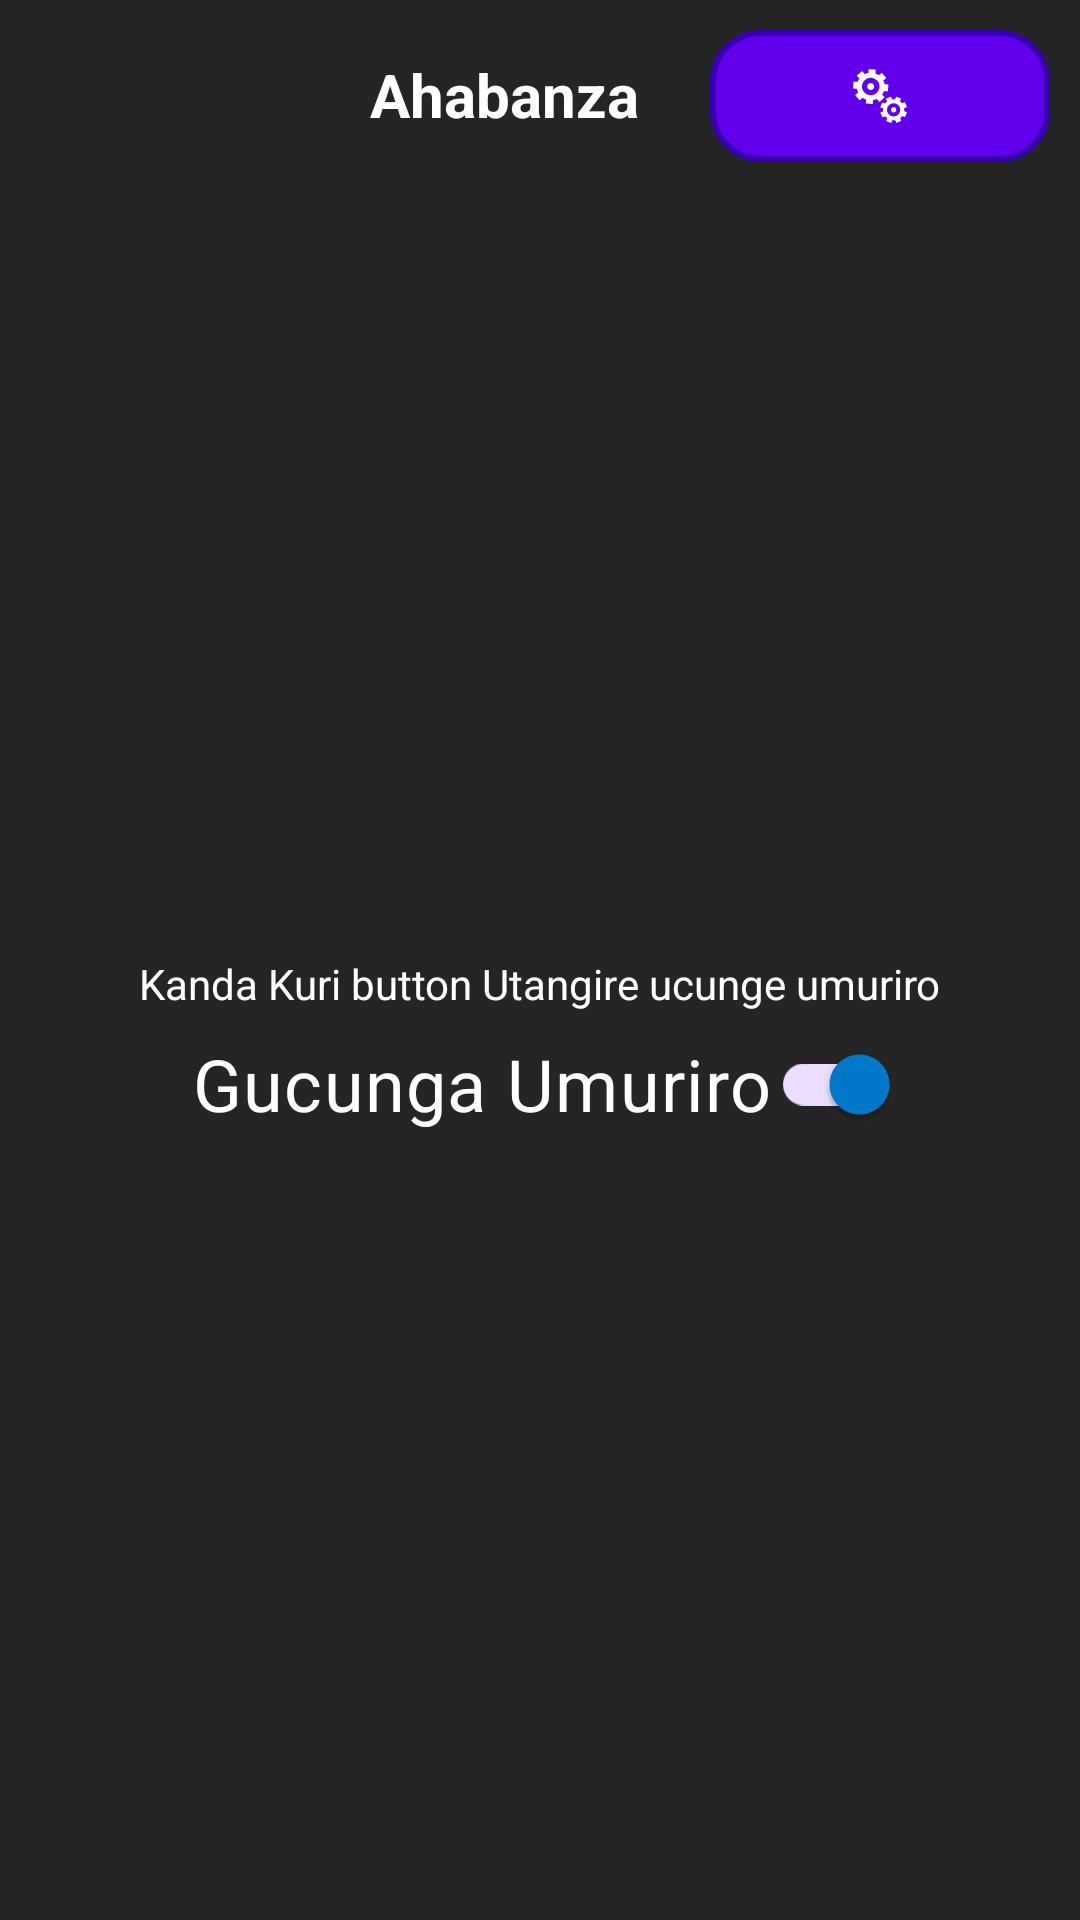

Named icons in this screenshot (1080 x 1920) and their bounding boxes, [x1, y1, x2, y2]:
Settings: [710, 30, 1050, 162]
